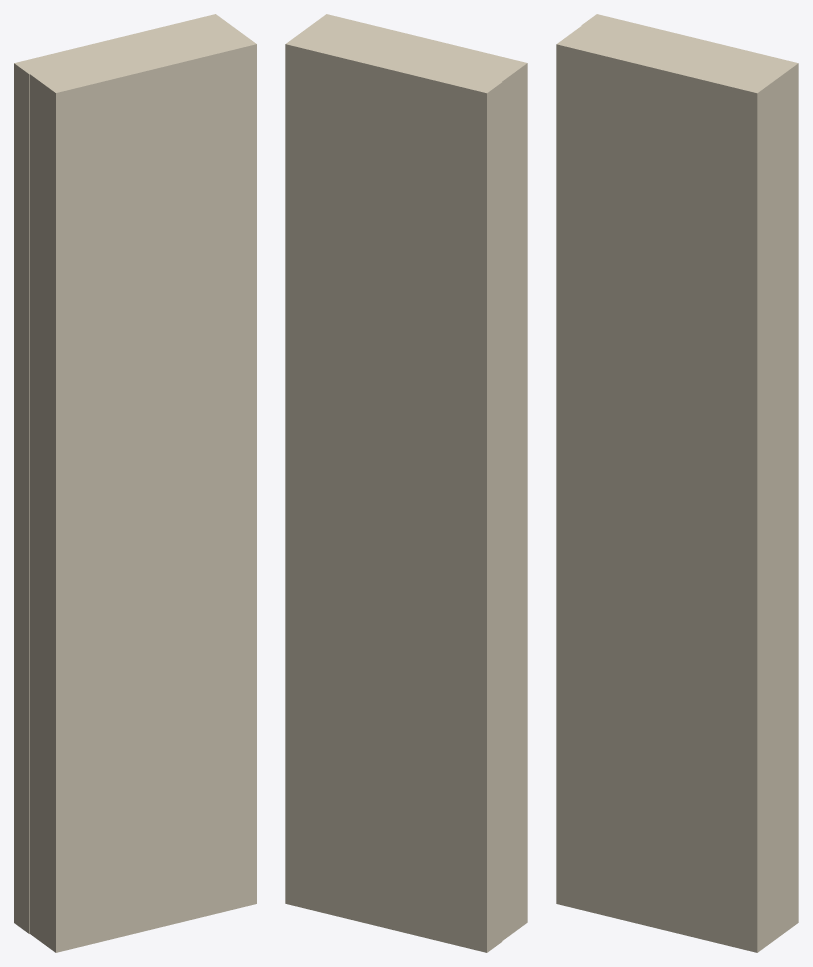
3 renders of one model, left to right at view 1: azimuth 30°, elevation 25°; view 2: azimuth 150°, elevation 25°; view 3: azimuth 330°, elevation 25°, orthographic.
Visible parts, largest first — view 1: B-GF-WALL-010; view 2: B-GF-WALL-010; view 3: B-GF-WALL-010.
Boxes of the visible parts, x1,y1,x2,y2 form: B-GF-WALL-010: [14, 14, 256, 952]; B-GF-WALL-010: [285, 14, 527, 952]; B-GF-WALL-010: [556, 14, 798, 952].
Bounding box in the file's own units: 0.594 × 2.42 × 0.21.
